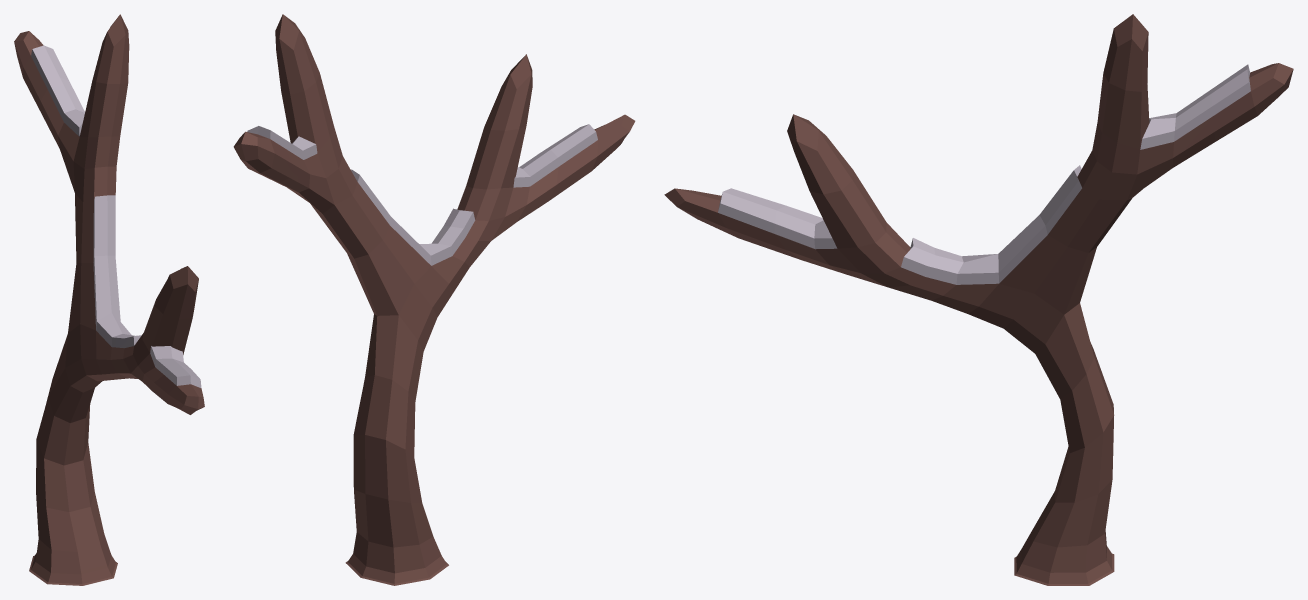
Rendered from willow_dead_snow_5.glb.
3 renders of one model, left to right at view 1: azimuth 30°, elevation 25°; view 2: azimuth 150°, elevation 25°; view 3: azimuth 270°, elevation 25°, orthographic. The views are drawn at different scales.
Parts seen in each view (by area): view 1: Willow_Dead_Snow_5; view 2: Willow_Dead_Snow_5; view 3: Willow_Dead_Snow_5.
Part boxes in pixels (x1,y1,x2,y2): Willow_Dead_Snow_5: (14, 14, 204, 585); Willow_Dead_Snow_5: (233, 14, 635, 585); Willow_Dead_Snow_5: (664, 14, 1293, 585).
Size of the model in its own units: 0.567 by 2.04 by 1.95.
